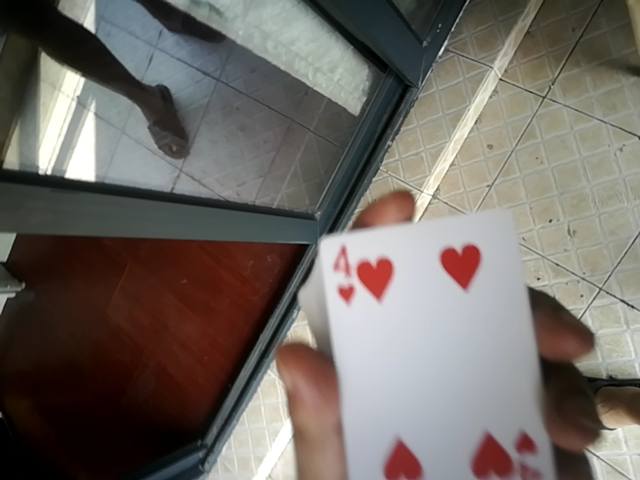hx 4: (302, 214, 555, 477)
